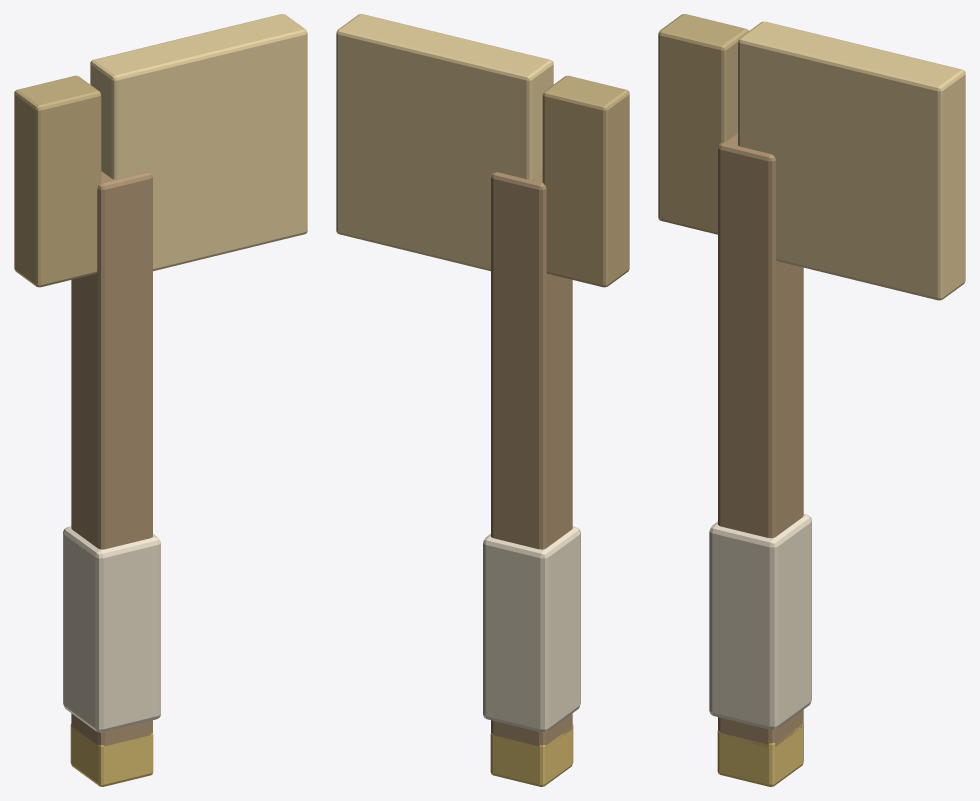
File: weapon_brindle_axe.glb
3 views of the same model, side by side, from view 1: azimuth 30°, elevation 25°; view 2: azimuth 150°, elevation 25°; view 3: azimuth 330°, elevation 25° (orthographic). The views are drawn at different scales.
Parts seen in each view (by area): view 1: Head, Haft, Grip_wrap, Head_dark, Butt_cap; view 2: Head, Haft, Grip_wrap, Head_dark, Butt_cap; view 3: Head, Haft, Grip_wrap, Head_dark, Butt_cap.
Part boxes in pixels (x1=…): Head: x1=90, y1=14, x2=307, y2=271; Haft: x1=71, y1=171, x2=152, y2=746; Grip_wrap: x1=63, y1=526, x2=160, y2=732; Head_dark: x1=14, y1=75, x2=101, y2=287; Butt_cap: x1=70, y1=724, x2=153, y2=786; Head: x1=336, y1=14, x2=553, y2=271; Haft: x1=491, y1=171, x2=572, y2=746; Grip_wrap: x1=483, y1=526, x2=580, y2=732; Head_dark: x1=542, y1=75, x2=629, y2=287; Butt_cap: x1=490, y1=724, x2=573, y2=786; Head: x1=738, y1=21, x2=965, y2=300; Haft: x1=718, y1=133, x2=803, y2=747; Grip_wrap: x1=709, y1=514, x2=811, y2=729; Head_dark: x1=658, y1=14, x2=748, y2=234; Butt_cap: x1=717, y1=721, x2=803, y2=786.
Size of the model in its own units: 0.25 by 0.62 by 0.06.
